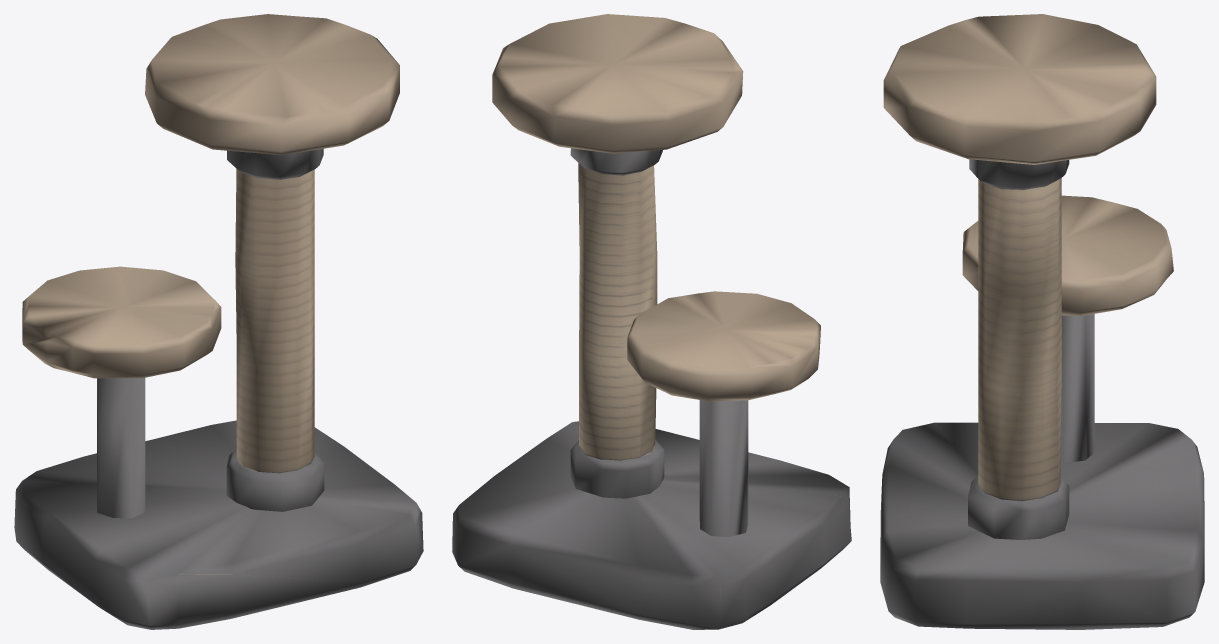
File: cat_tree.fbx
3 renders of one model, left to right at view 1: azimuth 30°, elevation 25°; view 2: azimuth 150°, elevation 25°; view 3: azimuth 270°, elevation 25°, orthographic. The views are drawn at different scales.
Visible parts, largest first — view 1: Mesh_0; view 2: Mesh_0; view 3: Mesh_0.
Boxes of the visible parts, x1,y1,x2,y2 form: Mesh_0: (14,14,423,629); Mesh_0: (452,14,851,629); Mesh_0: (880,14,1204,629).
Size of the model in its own units: 67.24 by 95.21 by 54.59.
Materials: 1 (1 with a texture image).
